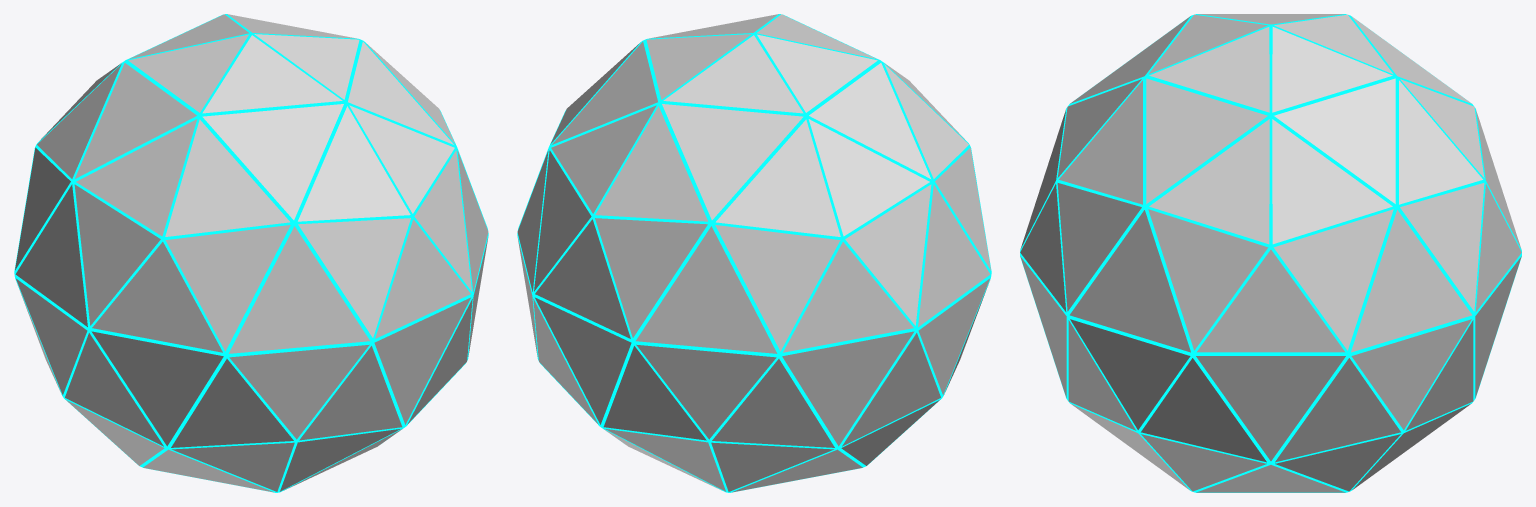
The model's file is ShieldFBX.fbx.
3 views of the same model, side by side, from view 1: azimuth 30°, elevation 25°; view 2: azimuth 150°, elevation 25°; view 3: azimuth 270°, elevation 25° (orthographic). The views are drawn at different scales.
Parts seen in each view (by area): view 1: Icosphere; view 2: Icosphere; view 3: Icosphere.
Part boxes in pixels (bbox=[...]): Icosphere: bbox=[14, 14, 488, 492]; Icosphere: bbox=[517, 14, 991, 492]; Icosphere: bbox=[1020, 14, 1521, 492].
Size of the model in its own units: 189 by 199 by 198.
